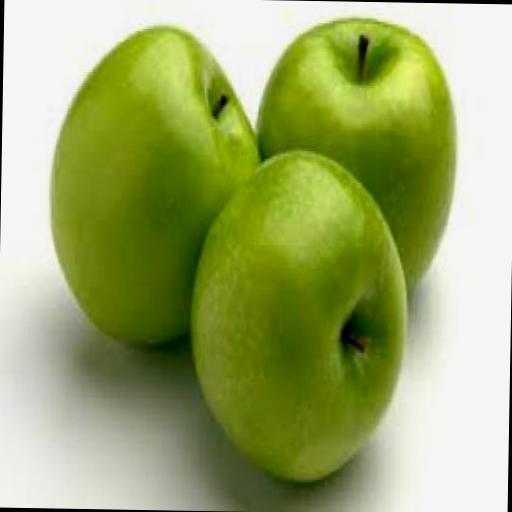biodegradable: (187, 146, 409, 489), (45, 24, 260, 356), (250, 14, 456, 324)
